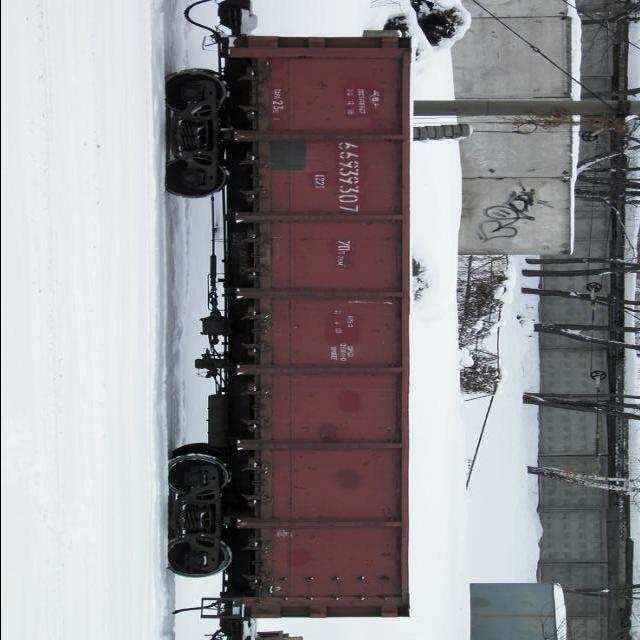wagon: (335, 141, 363, 213)
